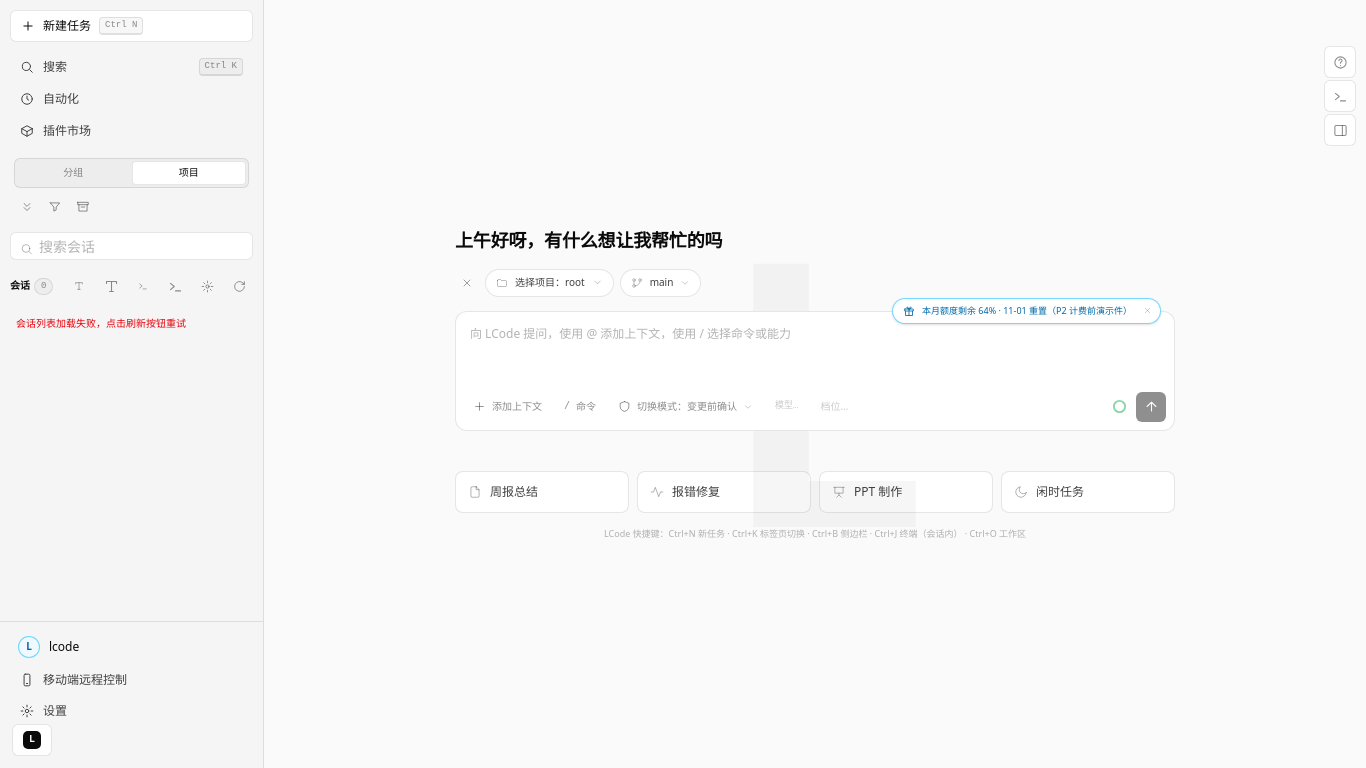
it: AppShell · 路由与三栏（任务 #2） › 侧栏折叠入口：Ctrl+B 与按钮都走 uiStore.requestToggle（持久化键 lcode.sidebar）
Step 1. Click the button with test id "sidebar-collapse" → (32, 740), box 12,724 -> 52,756
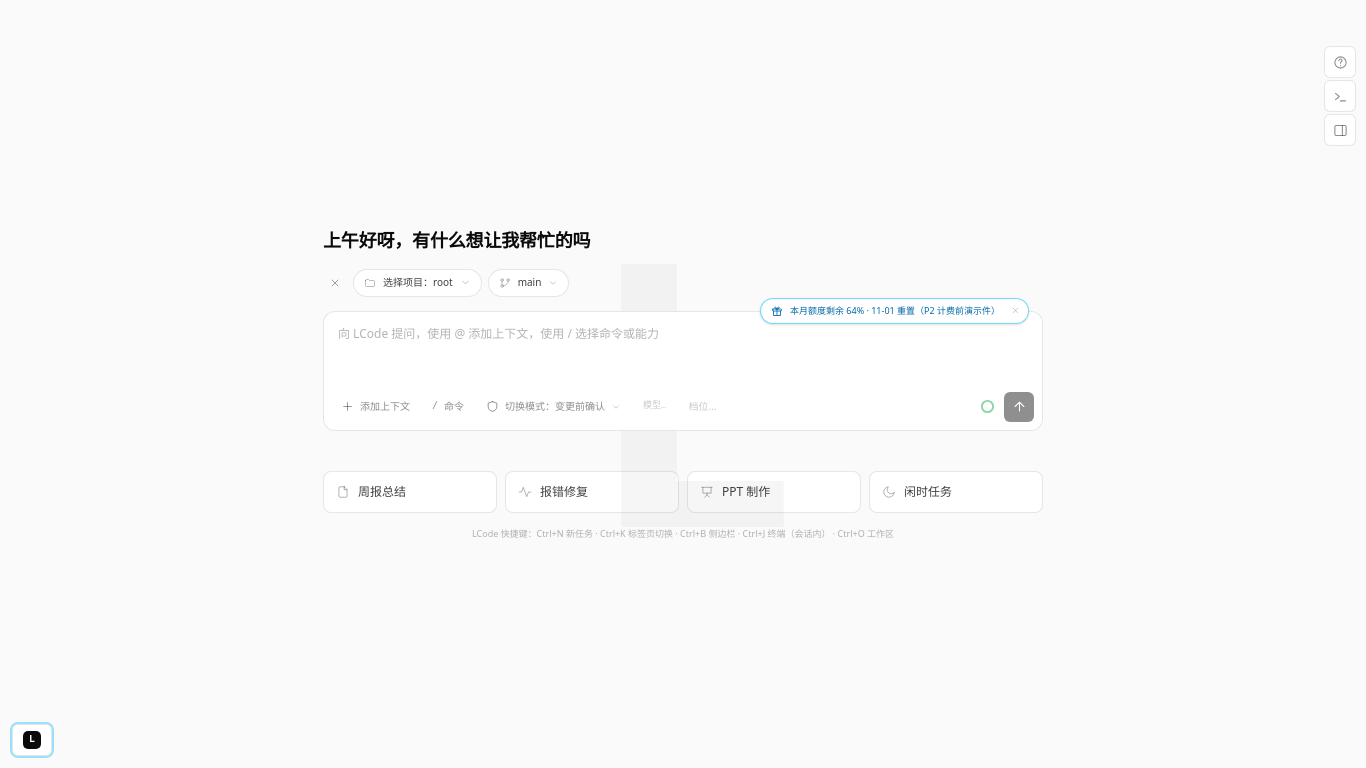
// 键盘 Ctrl+B 切回
Step 2. Type keys "{Control>}b{/Control}"
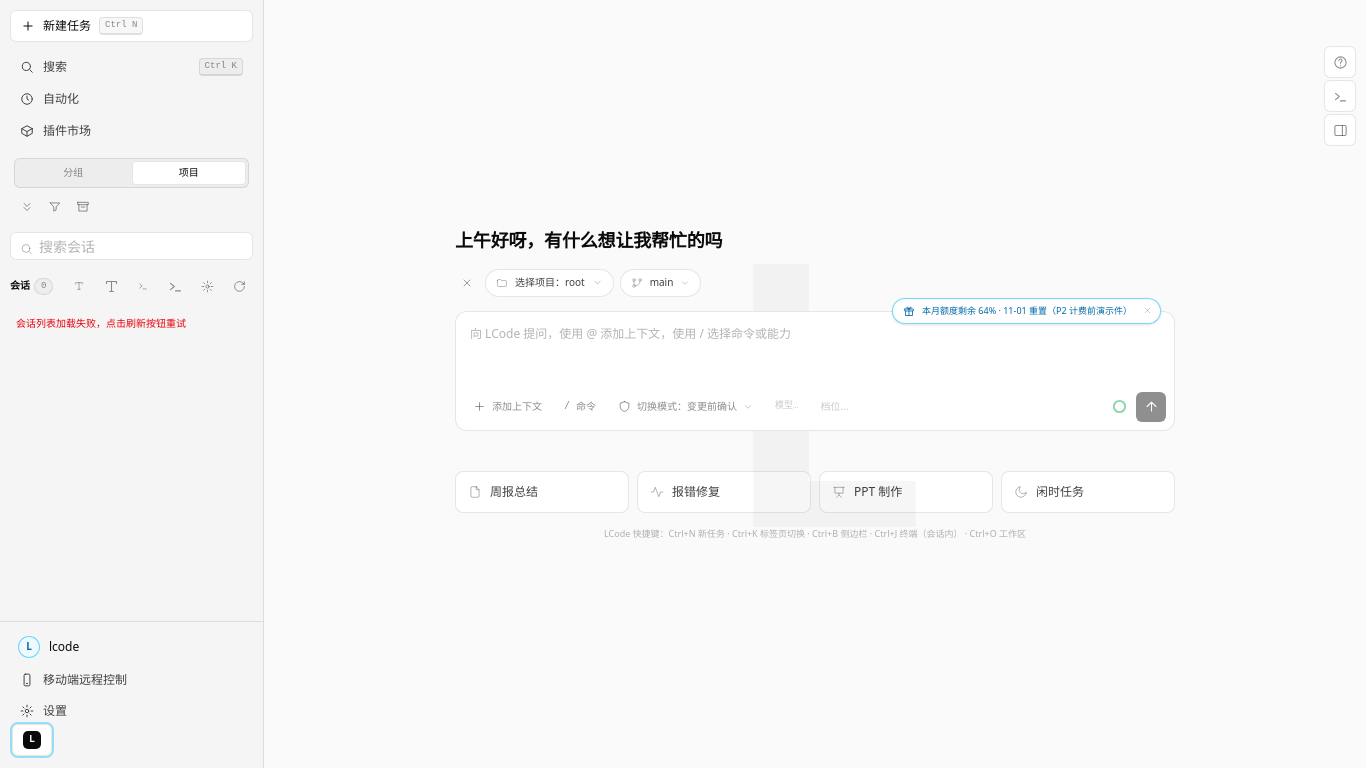
expect the element with test id "sidebar" is shown: met, box 0,0 -> 264,767
